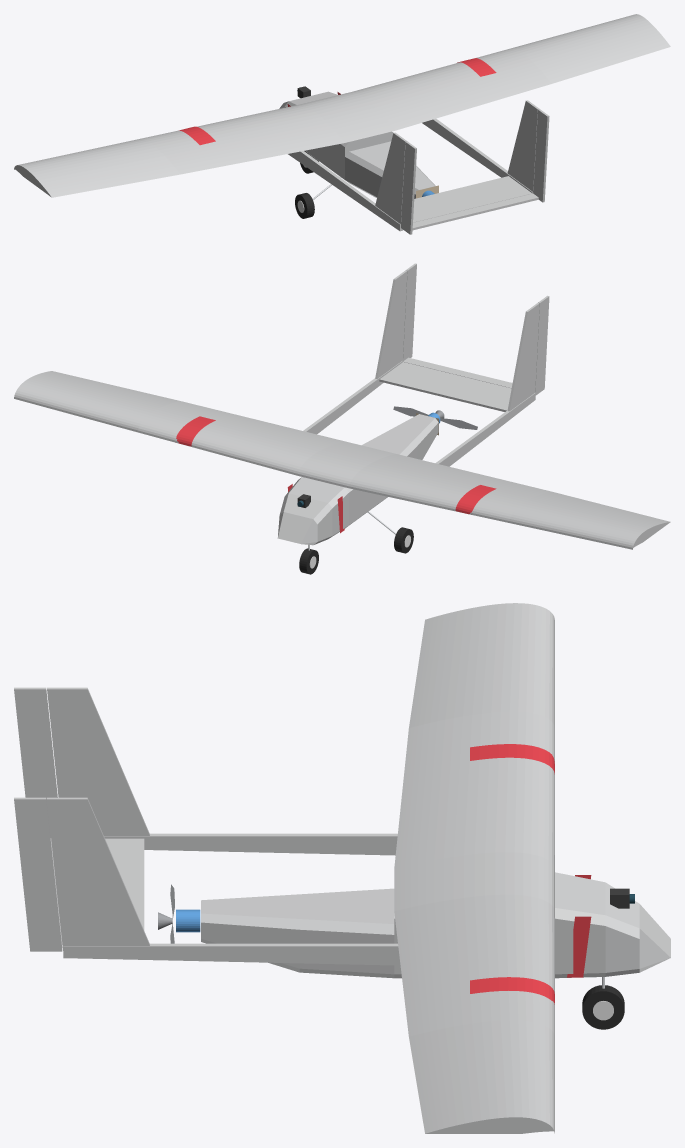
The model's file is Garuda_Vedang_1500mm.glb.
3 views of the same model, one above another, from view 1: azimuth 30°, elevation 25°; view 2: azimuth 150°, elevation 25°; view 3: azimuth 270°, elevation 25° (orthographic). The views are drawn at different scales.
Visible parts, largest first — view 1: Wing_Continuous_1500mm, Fuselage_Main_Body, Horizontal_Stabilizer_S1, Vertical_Fin_Left_S2, Vertical_Fin_Right_S2, Tail_Boom_Left_F9, Tail_Boom_Right_F9, Rudder_Left_S4, Rudder_Right_S4, Elevator_S3, Main_Wheel_Left, Aero_Stripe_Right (+1 smaller); view 2: Wing_Continuous_1500mm, Fuselage_Main_Body, Horizontal_Stabilizer_S1, Vertical_Fin_Left_S2, Vertical_Fin_Right_S2, Tail_Boom_Left_F9, Tail_Boom_Right_F9, Rudder_Left_S4, Rudder_Right_S4, Elevator_S3, Aero_Stripe_Left, Aero_Stripe_Right; view 3: Wing_Continuous_1500mm, Fuselage_Main_Body, Vertical_Fin_Right_S2, Vertical_Fin_Left_S2, Tail_Boom_Right_F9, Tail_Boom_Left_F9, Rudder_Right_S4, Rudder_Left_S4, Horizontal_Stabilizer_S1, Nose_Wheel, Aero_Stripe_Left, Aero_Stripe_Right (+1 smaller).
Boxes of the visible parts, bbox=[...] form: Wing_Continuous_1500mm: bbox=[14, 14, 670, 197]; Fuselage_Main_Body: bbox=[279, 91, 435, 198]; Horizontal_Stabilizer_S1: bbox=[413, 176, 532, 222]; Vertical_Fin_Left_S2: bbox=[375, 132, 407, 227]; Vertical_Fin_Right_S2: bbox=[507, 100, 539, 193]; Tail_Boom_Left_F9: bbox=[288, 151, 403, 231]; Tail_Boom_Right_F9: bbox=[422, 118, 532, 193]; Rudder_Left_S4: bbox=[401, 141, 416, 234]; Rudder_Right_S4: bbox=[533, 109, 549, 202]; Elevator_S3: bbox=[412, 193, 538, 230]; Main_Wheel_Left: bbox=[295, 193, 314, 218]; Aero_Stripe_Right: bbox=[457, 58, 496, 76]; Wing_Continuous_1500mm: bbox=[14, 371, 670, 549]; Fuselage_Main_Body: bbox=[277, 414, 438, 545]; Horizontal_Stabilizer_S1: bbox=[379, 362, 511, 411]; Vertical_Fin_Left_S2: bbox=[507, 303, 539, 411]; Vertical_Fin_Right_S2: bbox=[375, 270, 407, 378]; Tail_Boom_Left_F9: bbox=[435, 393, 535, 466]; Tail_Boom_Right_F9: bbox=[303, 360, 403, 434]; Rudder_Left_S4: bbox=[535, 295, 549, 395]; Rudder_Right_S4: bbox=[403, 263, 416, 360]; Elevator_S3: bbox=[403, 357, 512, 388]; Aero_Stripe_Left: bbox=[455, 485, 496, 514]; Aero_Stripe_Right: bbox=[176, 416, 215, 446]; Wing_Continuous_1500mm: bbox=[394, 603, 554, 1133]; Fuselage_Main_Body: bbox=[201, 872, 670, 978]; Vertical_Fin_Right_S2: bbox=[47, 797, 149, 950]; Vertical_Fin_Left_S2: bbox=[47, 687, 149, 835]; Tail_Boom_Right_F9: bbox=[63, 943, 400, 965]; Tail_Boom_Left_F9: bbox=[104, 833, 397, 855]; Rudder_Right_S4: bbox=[14, 797, 62, 951]; Rudder_Left_S4: bbox=[14, 687, 57, 837]; Horizontal_Stabilizer_S1: bbox=[105, 838, 144, 930]; Nose_Wheel: bbox=[582, 985, 624, 1029]; Aero_Stripe_Left: bbox=[470, 744, 554, 774]; Aero_Stripe_Right: bbox=[470, 977, 554, 1004].
Bounding box in the file's own units: 1.5 × 0.3851 × 0.81.
